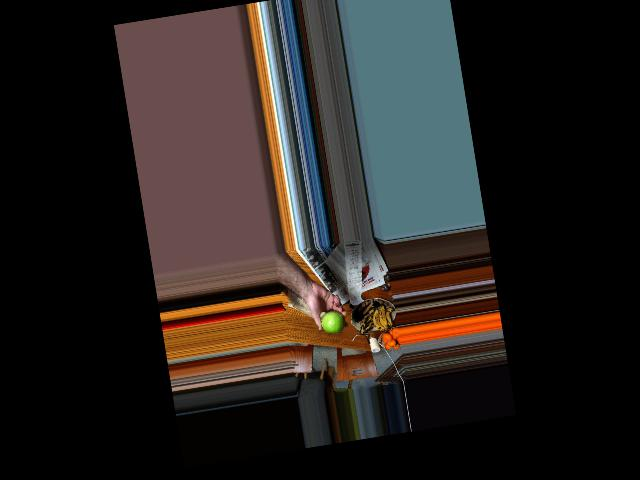apple: (320, 309, 347, 336)
